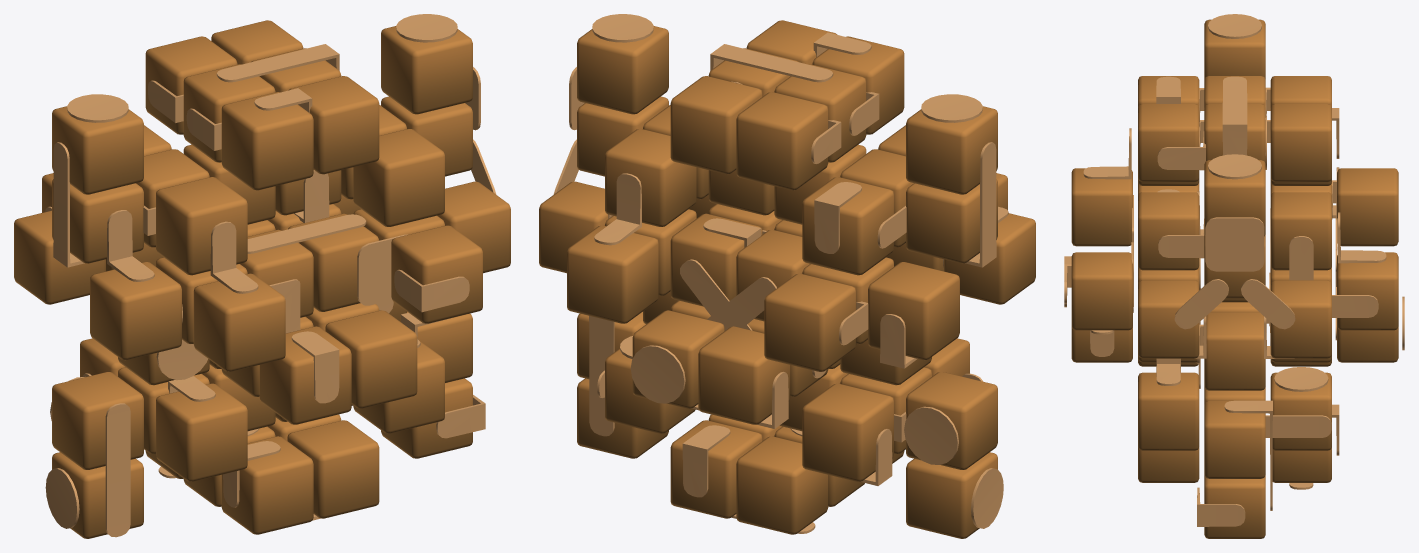
File: level_128.fbx
3 renders of one model, left to right at view 1: azimuth 30°, elevation 25°; view 2: azimuth 150°, elevation 25°; view 3: azimuth 270°, elevation 25°, orthographic. The views are drawn at different scales.
Visible parts, largest first — view 1: Cube_L3_19.029, Cube_L3_19.023, Cube_L3_19.058, Cube_L3_19.049, Cube_L3_19.027, Cube_L3_19.022, Cube_L3_19, Cube_L3_19.063, Cube_L3_19.025, Cube_L3_19.053, Cube_L3_19.059, Cube_L3_19.055 (+52 smaller); view 2: Cube_L3_19.056, Cube_L3_19.031, Cube_L3_19.032, Cube_L3_19.037, Cube_L3_19.057, Cube_L3_19.051, Cube_L3_19.034, Cube_L3_19, Cube_L3_19.060, Cube_L3_19.055, Cube_L3_19.035, Cube_L3_19.030 (+52 smaller); view 3: Cube_L3_19.024, Cube_L3_19.060, Cube_L3_19.031, Cube_L3_19.009, Cube_L3_19.028, Cube_L3_19.054, Cube_L3_19.023, Cube_L3_19.050, Cube_L3_19.052, Cube_L3_19.035, Cube_L3_19.027, Cube_L3_19.062 (+37 smaller).
Part boxes in pixels (<box>): Cube_L3_19.029: <box>156,383,247,481</box>; Cube_L3_19.023: <box>193,273,285,371</box>; Cube_L3_19.058: <box>221,92,313,190</box>; Cube_L3_19.049: <box>90,262,181,360</box>; Cube_L3_19.027: <box>353,129,444,226</box>; Cube_L3_19.022: <box>156,177,247,275</box>; Cube_L3_19: <box>381,26,472,114</box>; Cube_L3_19.063: <box>287,420,379,518</box>; Cube_L3_19.025: <box>325,310,417,408</box>; Cube_L3_19.053: <box>52,372,143,469</box>; Cube_L3_19.059: <box>221,436,313,534</box>; Cube_L3_19.055: <box>52,106,143,194</box>; Cube_L3_19.056: <box>736,92,828,190</box>; Cube_L3_19.031: <box>764,273,856,371</box>; Cube_L3_19.032: <box>567,225,658,323</box>; Cube_L3_19.037: <box>802,383,893,481</box>; Cube_L3_19.057: <box>736,436,828,534</box>; Cube_L3_19.051: <box>868,262,959,360</box>; Cube_L3_19.034: <box>698,326,790,424</box>; Cube_L3_19: <box>577,26,668,114</box>; Cube_L3_19.060: <box>670,76,762,174</box>; Cube_L3_19.055: <box>906,106,997,194</box>; Cube_L3_19.035: <box>605,129,696,226</box>; Cube_L3_19.030: <box>802,177,893,275</box>; Cube_L3_19.024: <box>1071,252,1132,330</box>; Cube_L3_19.060: <box>1270,104,1331,181</box>; Cube_L3_19.031: <box>1337,168,1398,246</box>; Cube_L3_19.009: <box>1204,312,1265,390</box>; Cube_L3_19.028: <box>1138,372,1199,450</box>; Cube_L3_19.054: <box>1204,400,1265,478</box>; Cube_L3_19.023: <box>1071,168,1132,246</box>; Cube_L3_19.050: <box>1138,280,1199,358</box>; Cube_L3_19.052: <box>1270,280,1331,358</box>; Cube_L3_19.035: <box>1270,192,1331,270</box>; Cube_L3_19.027: <box>1138,192,1199,270</box>; Cube_L3_19.062: <box>1138,104,1199,181</box>.
Bounding box in the file's own units: 12.87 × 12.89 × 10.76.
